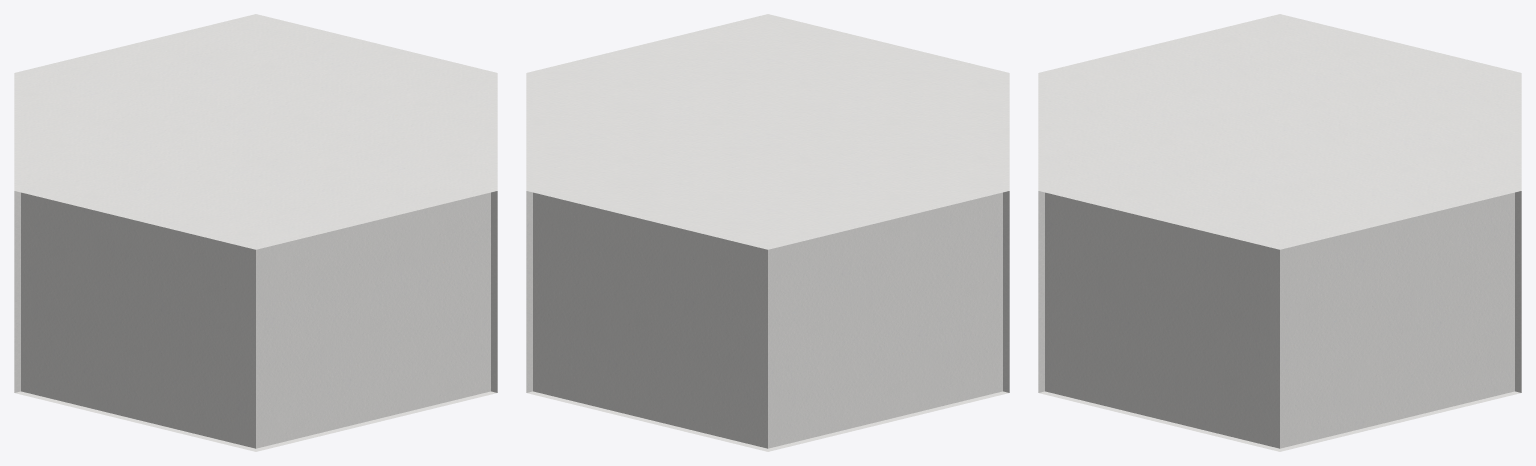
Rendered from Hexagon_Room_SplitWall.fbx.
The picture shows the model from 3 angles, left to right: view 1: azimuth 30°, elevation 25°; view 2: azimuth 150°, elevation 25°; view 3: azimuth 270°, elevation 25°; orthographic projection.
Visible parts, largest first — view 1: Hexagon_Celling, Hexagon_Wall_4, Hexagon_Wall_5, Hexagon_Wall_6, Hexagon_Wall_3, Hexagon_Wall_1, Hexagon_Wall_2; view 2: Hexagon_Celling, Hexagon_Wall_1, Hexagon_Wall_6, Hexagon_Wall_5, Hexagon_Wall_2, Hexagon_Wall_3, Hexagon_Wall_4; view 3: Hexagon_Celling, Hexagon_Wall_3, Hexagon_Wall_2, Hexagon_Wall_1, Hexagon_Wall_4, Hexagon_Wall_5, Hexagon_Wall_6.
Boxes of the visible parts, bbox=[...] form: Hexagon_Celling: bbox=[21, 17, 490, 246]; Hexagon_Wall_4: bbox=[256, 189, 497, 451]; Hexagon_Wall_5: bbox=[14, 189, 255, 451]; Hexagon_Wall_6: bbox=[14, 73, 20, 392]; Hexagon_Wall_3: bbox=[491, 73, 497, 392]; Hexagon_Wall_1: bbox=[15, 14, 255, 74]; Hexagon_Wall_2: bbox=[256, 14, 496, 74]; Hexagon_Celling: bbox=[533, 17, 1002, 246]; Hexagon_Wall_1: bbox=[526, 189, 767, 451]; Hexagon_Wall_6: bbox=[768, 189, 1009, 451]; Hexagon_Wall_5: bbox=[1003, 73, 1009, 392]; Hexagon_Wall_2: bbox=[526, 73, 532, 392]; Hexagon_Wall_3: bbox=[527, 14, 767, 74]; Hexagon_Wall_4: bbox=[768, 14, 1008, 74]; Hexagon_Celling: bbox=[1045, 17, 1514, 246]; Hexagon_Wall_3: bbox=[1038, 189, 1279, 451]; Hexagon_Wall_2: bbox=[1280, 189, 1520, 451]; Hexagon_Wall_1: bbox=[1515, 73, 1521, 392]; Hexagon_Wall_4: bbox=[1038, 73, 1044, 391]; Hexagon_Wall_5: bbox=[1039, 14, 1279, 74]; Hexagon_Wall_6: bbox=[1280, 14, 1520, 74].
Bounding box in the file's own units: 9.26 × 3.7 × 8.02.
